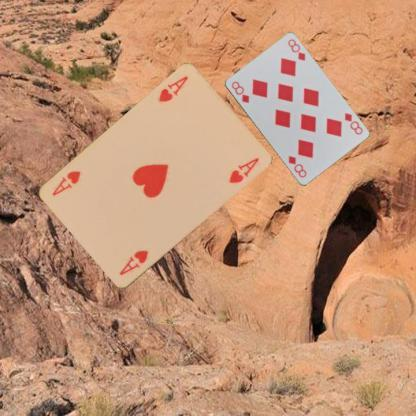8d: (228, 78, 250, 104), (342, 110, 364, 136)
Ah: (156, 73, 190, 104), (116, 248, 150, 277)
